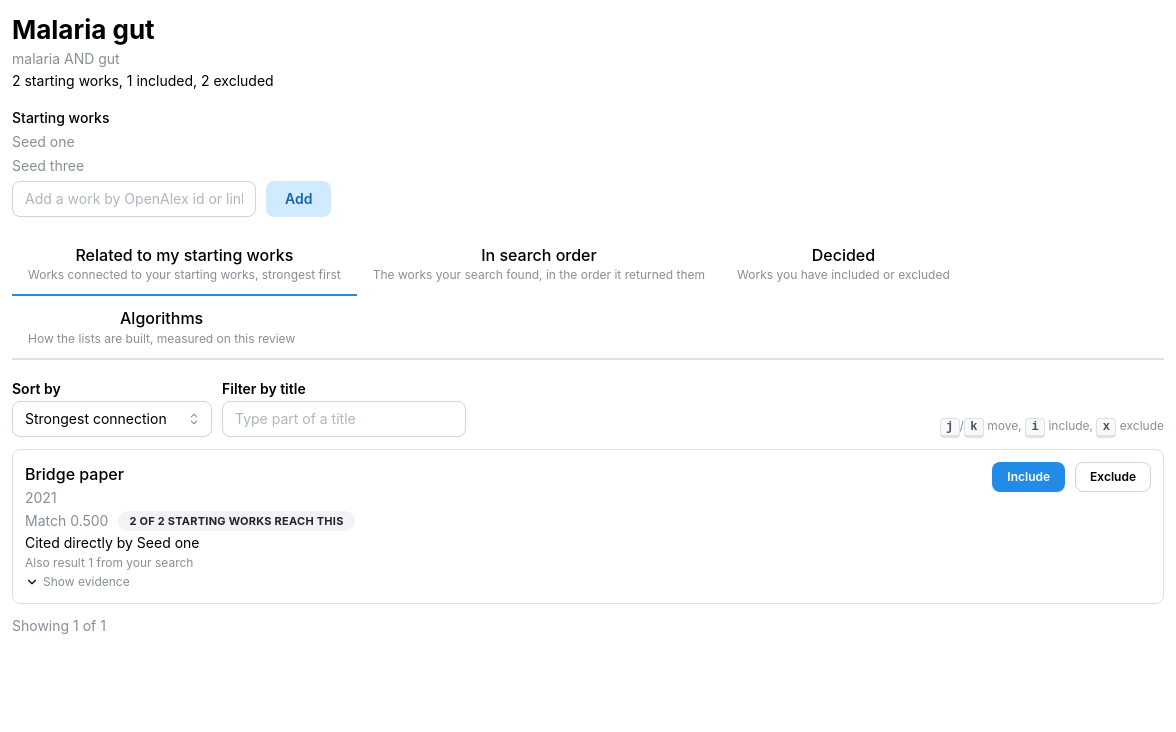
Test case: ReviewScreen › announces a failed decision instead of dropping it
The width and height of the screenshot is (1176, 732).
Click the button with aria-label "Include Bridge paper": point(1029, 477) 992,462 -> 1065,492
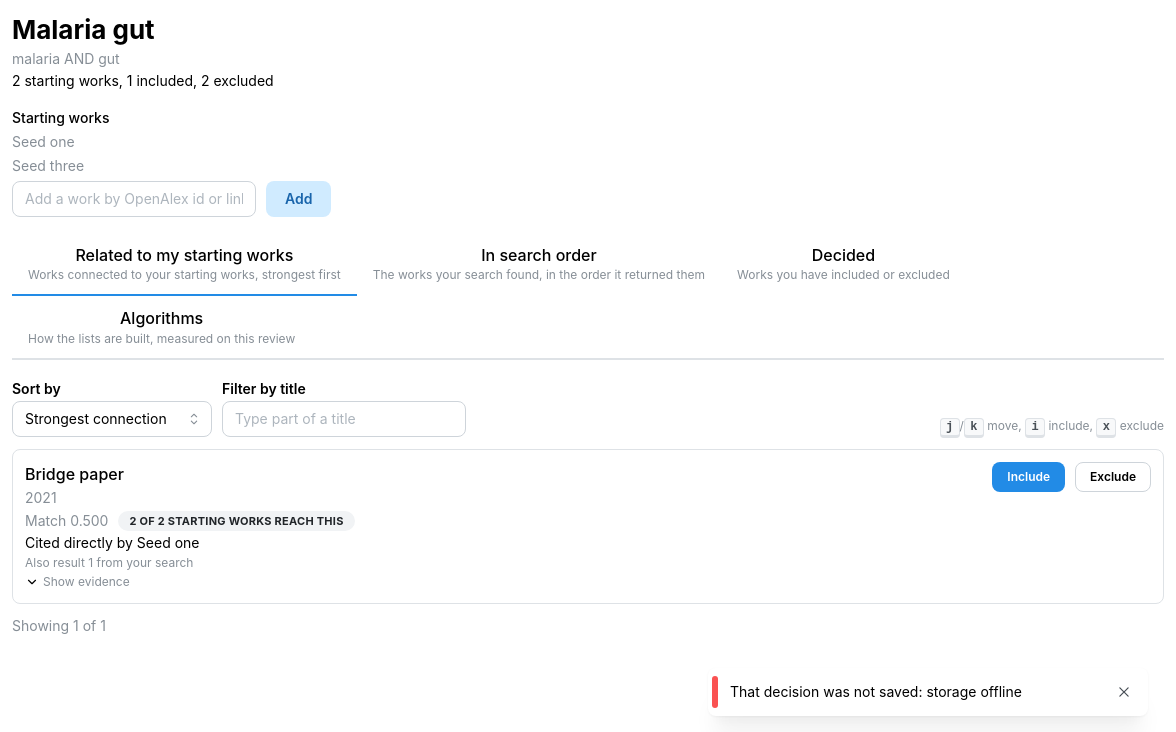
Expected: the text "That decision was not saved: storage offline" is shown, 730,683 -> 1022,700
